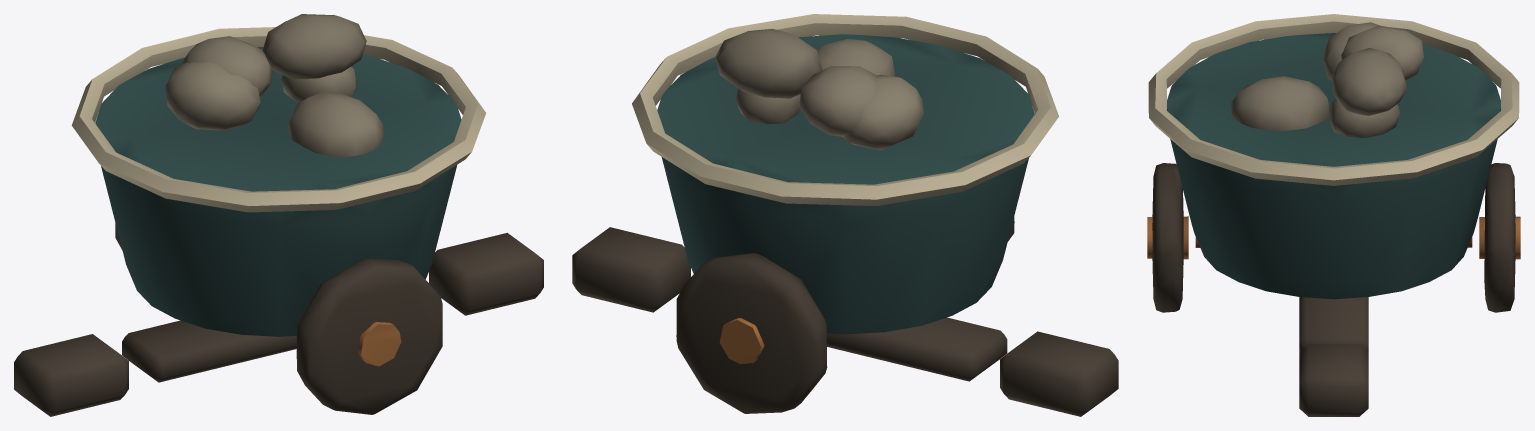
Rendered from ore_trolley_a_lod1.glb.
3 renders of one model, left to right at view 1: azimuth 30°, elevation 25°; view 2: azimuth 150°, elevation 25°; view 3: azimuth 270°, elevation 25°, orthographic. The views are drawn at different scales.
Parts seen in each view (by area): view 1: Surface.001; view 2: Surface.001; view 3: Surface.001.
Part boxes in pixels (x1,y1,x2,y2): Surface.001: [14, 14, 543, 416]; Surface.001: [572, 14, 1118, 416]; Surface.001: [1147, 14, 1520, 416].
Bounding box in the file's own units: 2.3 × 1.33 × 1.62.
